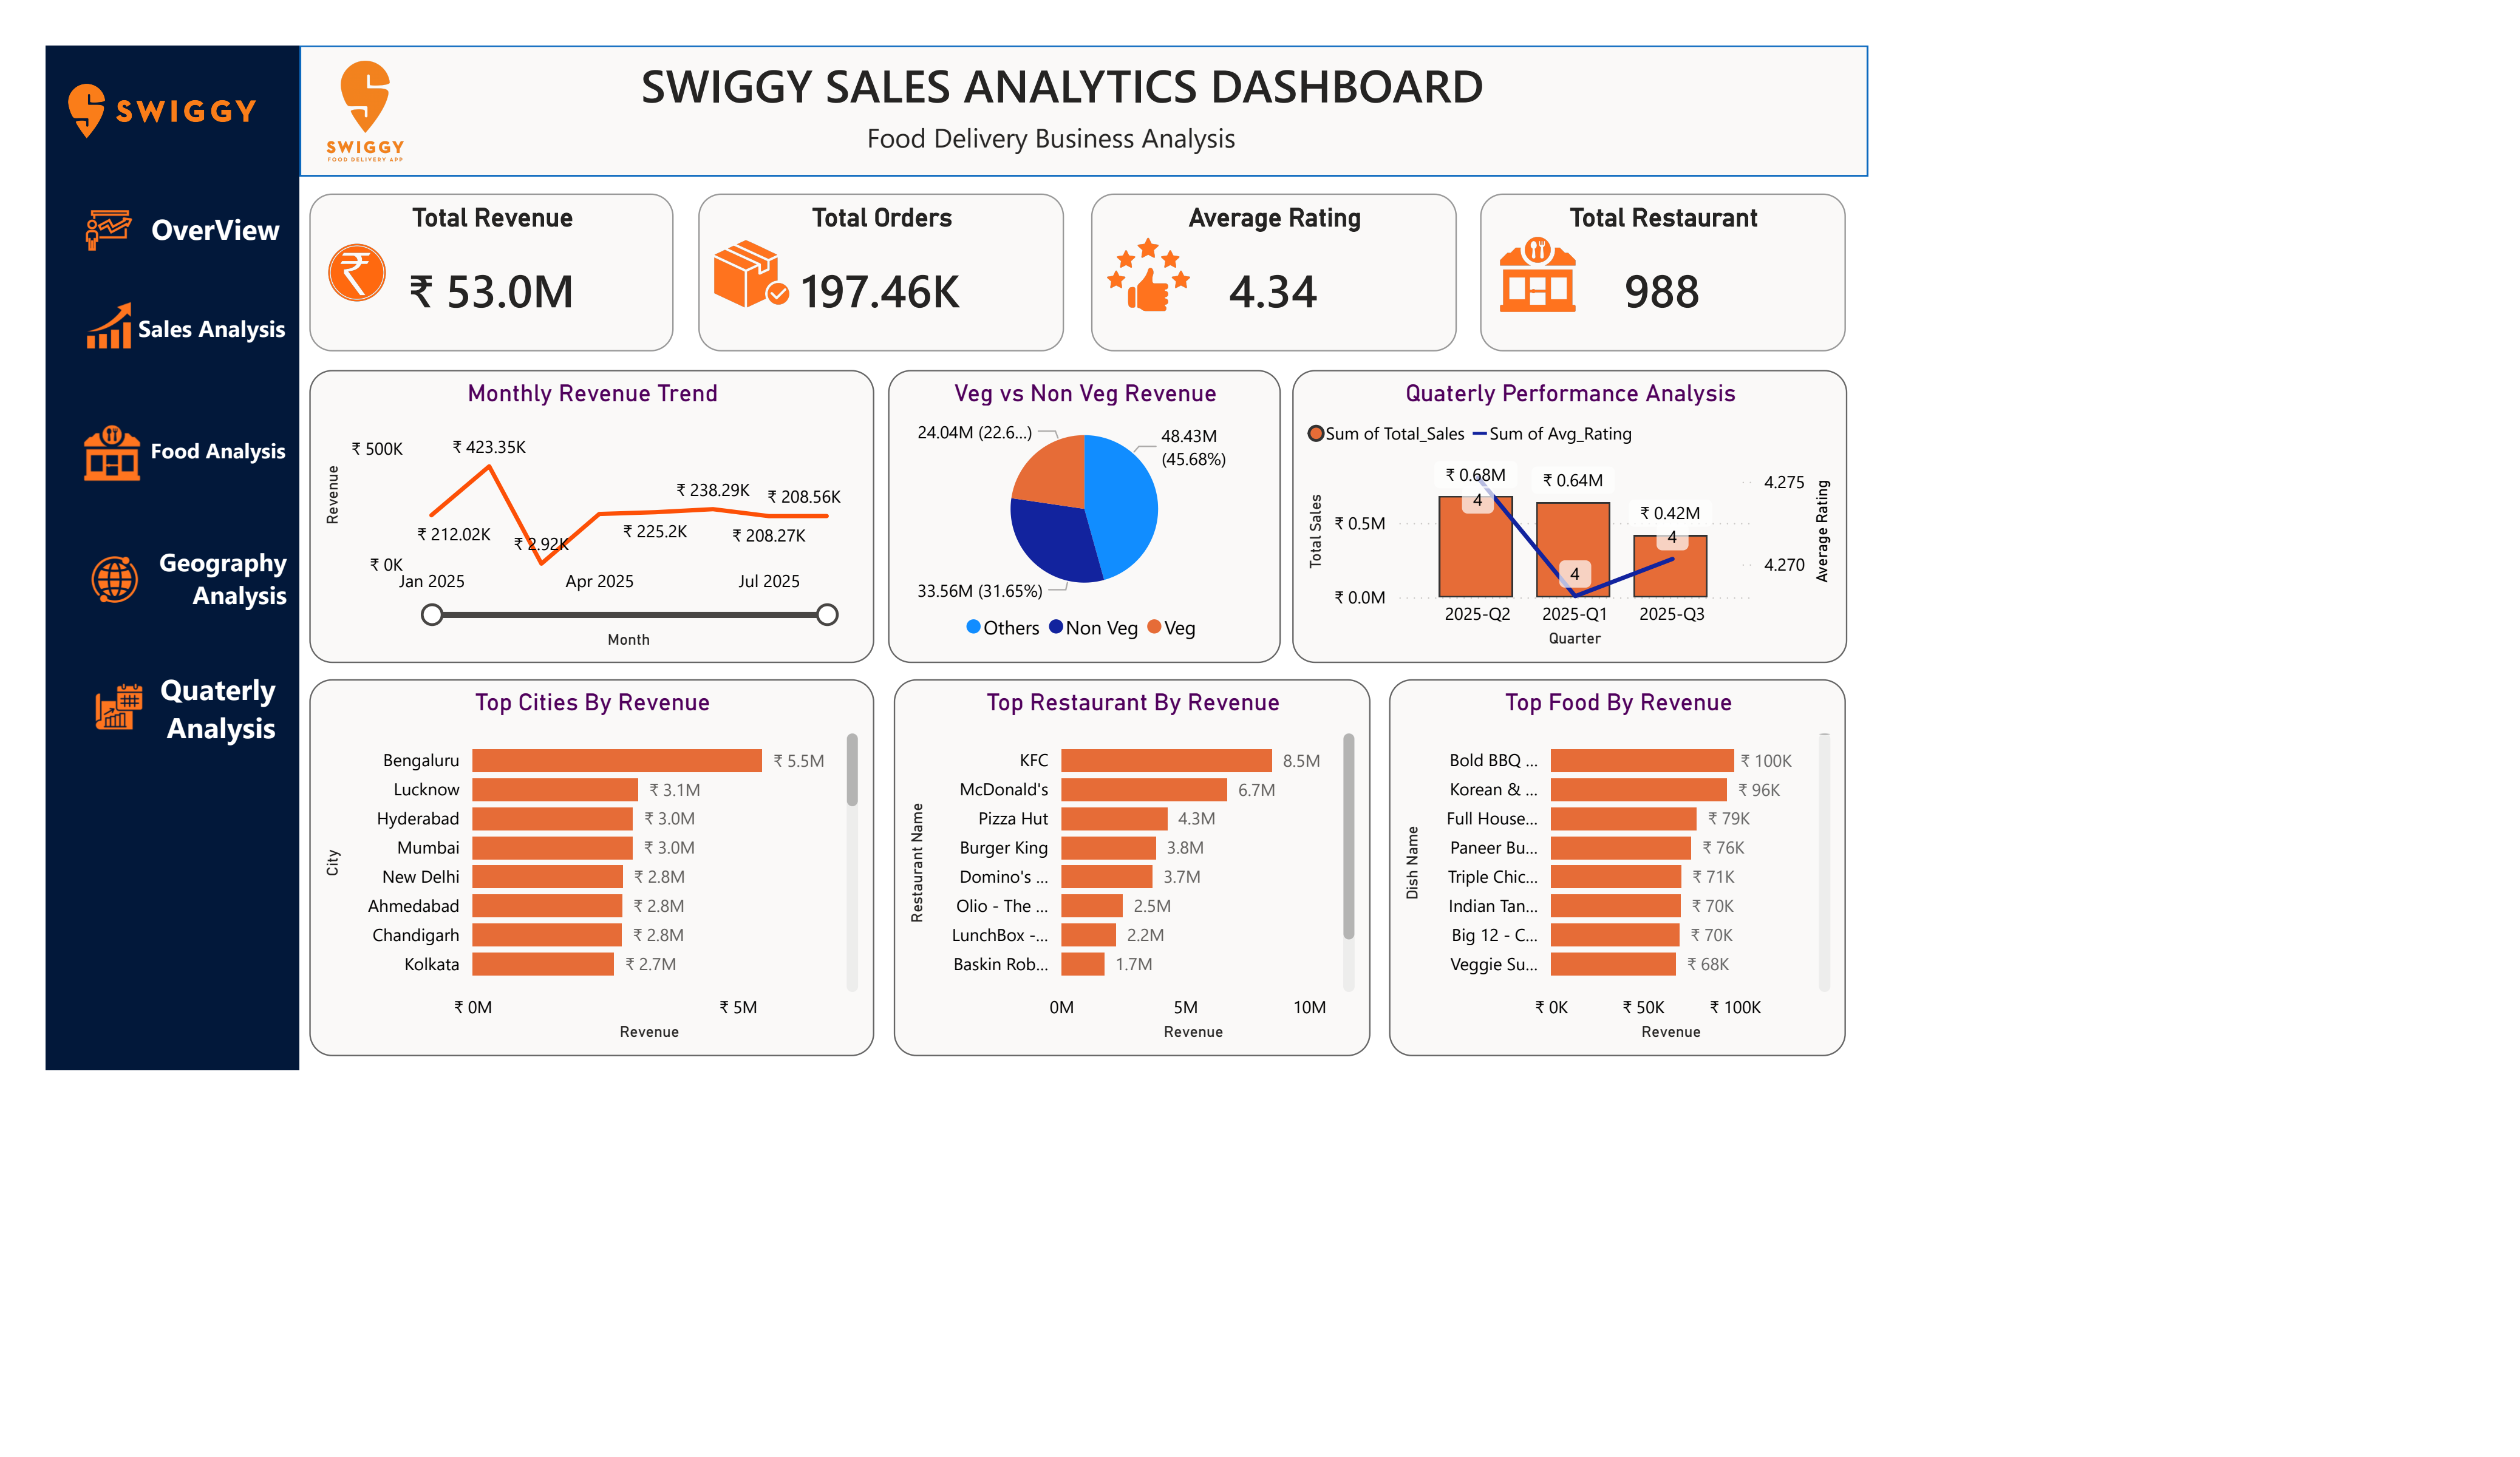

The dashboard page shown, as its layout file describes it:
{"tool":"powerbi","page":{"name":"Overview","canvas":[1280,720],"ordinal":0},"visuals":[{"type":"shape","box":[0,0,178.4,720.4],"z":0},{"type":"image","box":[16.5,0,131.7,91.9],"z":1000},{"type":"shape","box":[178.4,0,1101.9,91.9],"z":2000},{"type":"image","box":[126.2,0,196.2,91.9],"z":3000},{"type":"textbox","box":[413,0,618.9,54.9],"z":4000},{"type":"textbox","box":[572.2,46.7,303.3,38.4],"z":5000},{"type":"cardVisual","title":"Total Revenue","fields":{"Data":["Sum(swiggy_data.Price (INR))"]},"box":[185.2,104.3,256,111.1],"z":6000,"group":"g1"},{"type":"cardVisual","title":"Total Restaurant","fields":{"Data":["Count(swiggy_data.Restaurant Name)"]},"box":[1008.6,104.3,256.6,111.1],"z":6000,"group":"g4"},{"type":"lineChart","title":"Monthly Revenue Trend","fields":{"Y":["Sum(Monthly Revenue Analysis.Revenue)"],"Category":["Monthly Revenue Analysis.Month.Variation.Date Hierarchy.Year","Monthly Revenue Analysis.Month.Variation.Date Hierarchy.Quarter","Monthly Revenue Analysis.Month.Variation.Date Hierarchy.Month","Monthly Revenue Analysis.Month.Variation.Date Hierarchy.Day"]},"box":[185.2,227.8,396.6,205.8],"z":6000},{"type":"cardVisual","title":"Total Orders","fields":{"Data":["CountNonNull(swiggy_data.Order Date)"]},"box":[458.3,104.3,256.6,111.1],"z":7000,"group":"g2"},{"type":"pieChart","title":"Veg vs Non Veg Revenue","fields":{"Y":["Sum(veg vs non veg vs others (2).Total_Revenue)"],"Category":["veg vs non veg vs others (2).Food_Type"]},"box":[591.4,227.8,275.8,205.8],"z":7000},{"type":"cardVisual","title":"Average Rating","fields":{"Data":["Avg(swiggy_data.Rating)"]},"box":[734.1,104.3,256.6,111.1],"z":8000,"group":"g3"},{"type":"lineClusteredColumnComboChart","title":"Quaterly Performance Analysis","fields":{"Category":["quarterly_analysis.Quarter"],"Y":["Sum(quarterly_analysis.Total_Sales)"],"Y2":["Sum(quarterly_analysis.Avg_Rating)"]},"box":[875.5,227.8,389.7,205.8],"z":8000},{"type":"barChart","title":"Top Cities By Revenue","fields":{"Category":["swiggy_data.City"],"Y":["Sum(swiggy_data.Price (INR))"]},"box":[185.2,446,396.6,264.8],"z":9000},{"type":"barChart","title":"Top Restaurant By Revenue","fields":{"Category":["top 10 restuarent by revenue.Restaurant Name"],"Y":["Sum(top 10 restuarent by revenue.Total_Revenue)"]},"box":[595.5,446,334.8,264.8],"z":10000},{"type":"barChart","title":"Top Food By Revenue","fields":{"Category":["swiggy_data.Dish Name"],"Y":["Sum(swiggy_data.Price (INR))"]},"box":[944.1,446,321.1,264.8],"z":11000},{"type":"group","id":"g1","title":"Group 1","box":[185.2,104.3,256,111.1],"z":12000},{"type":"group","id":"g2","title":"Group 2","box":[458.3,104.3,256.6,111.1],"z":13000},{"type":"group","id":"g3","title":"Group 3","box":[734.1,104.3,256.6,111.1],"z":14000},{"type":"group","id":"g4","title":"Group 4","box":[1008.6,104.3,256.6,111.1],"z":15000},{"type":"image","box":[734.1,105.7,81,111.1],"z":16000},{"type":"image","box":[1008.6,105.7,81,111.1],"z":17000},{"type":"image","box":[456.9,105.7,78.2,109.8],"z":18000},{"type":"image","box":[185.2,104.3,67.2,111.1],"z":19000},{"type":"actionButton","box":[0,85.1,168.8,89.2],"z":20000},{"type":"actionButton","box":[4.1,152.3,168.8,89.2],"z":21000},{"type":"actionButton","box":[4.1,241.5,168.8,89.2],"z":22000},{"type":"actionButton","box":[3.7,419.4,168.8,89.3],"z":23000},{"type":"actionButton","box":[7.3,330.2,168.8,89.3],"z":23001}]}

Visuals, with their boxes on the page's 1280x720 design canvas (x1, y1, x2, y2). These are canvas units, not pixel positions in the 2520x1457 screenshot, which may show the page scaled, cropped or inside an application window:
shape: BBox(0, 0, 178, 720)
image: BBox(16, 0, 148, 92)
shape: BBox(178, 0, 1280, 92)
image: BBox(126, 0, 322, 92)
textbox: BBox(413, 0, 1032, 55)
textbox: BBox(572, 47, 876, 85)
"Total Revenue" cardVisual: BBox(185, 104, 441, 215)
"Total Restaurant" cardVisual: BBox(1009, 104, 1265, 215)
"Monthly Revenue Trend" lineChart: BBox(185, 228, 582, 434)
"Total Orders" cardVisual: BBox(458, 104, 715, 215)
"Veg vs Non Veg Revenue" pieChart: BBox(591, 228, 867, 434)
"Average Rating" cardVisual: BBox(734, 104, 991, 215)
"Quaterly Performance Analysis" lineClusteredColumnComboChart: BBox(876, 228, 1265, 434)
"Top Cities By Revenue" barChart: BBox(185, 446, 582, 711)
"Top Restaurant By Revenue" barChart: BBox(596, 446, 930, 711)
"Top Food By Revenue" barChart: BBox(944, 446, 1265, 711)
"Group 1" group: BBox(185, 104, 441, 215)
"Group 2" group: BBox(458, 104, 715, 215)
"Group 3" group: BBox(734, 104, 991, 215)
"Group 4" group: BBox(1009, 104, 1265, 215)
image: BBox(734, 106, 815, 217)
image: BBox(1009, 106, 1090, 217)
image: BBox(457, 106, 535, 216)
image: BBox(185, 104, 252, 215)
actionButton: BBox(0, 85, 169, 174)
actionButton: BBox(4, 152, 173, 242)
actionButton: BBox(4, 242, 173, 331)
actionButton: BBox(4, 419, 172, 509)
actionButton: BBox(7, 330, 176, 420)
